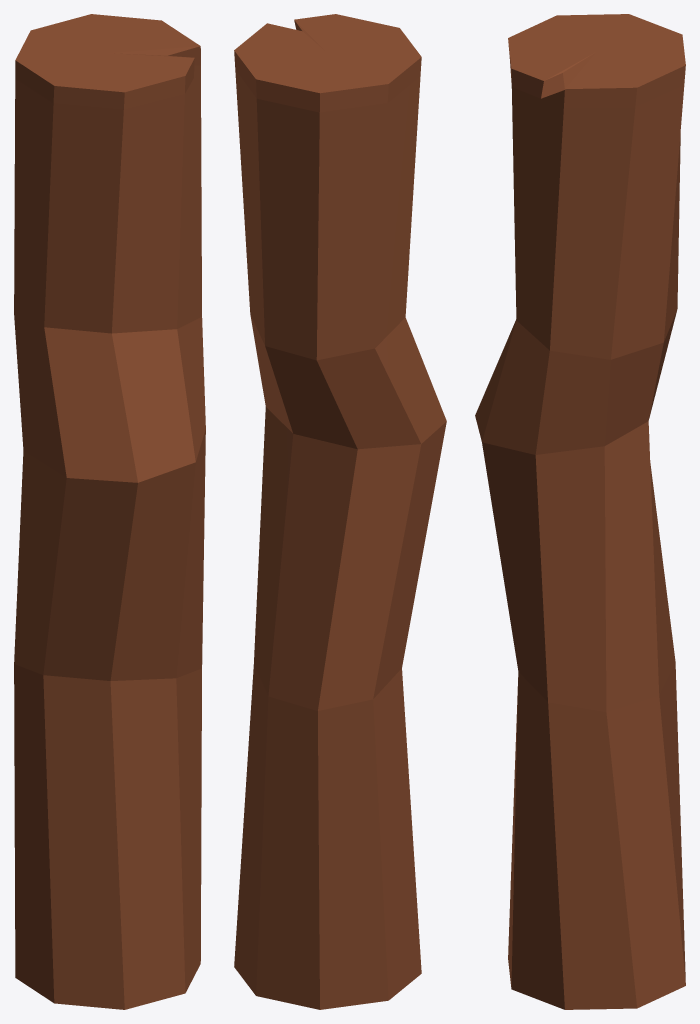
Rendered from Small log of wood.fbx.
The picture shows the model from 3 angles, left to right: view 1: azimuth 30°, elevation 25°; view 2: azimuth 150°, elevation 25°; view 3: azimuth 270°, elevation 25°; orthographic projection.
Visible parts, largest first — view 1: Small log of wood; view 2: Small log of wood; view 3: Small log of wood.
Part boxes in pixels (x1,y1,x2,y2): Small log of wood: (14,14,205,1009); Small log of wood: (234,14,446,1009); Small log of wood: (475,14,685,1009).
Bounding box in the file's own units: 29.14 × 154 × 31.98.
